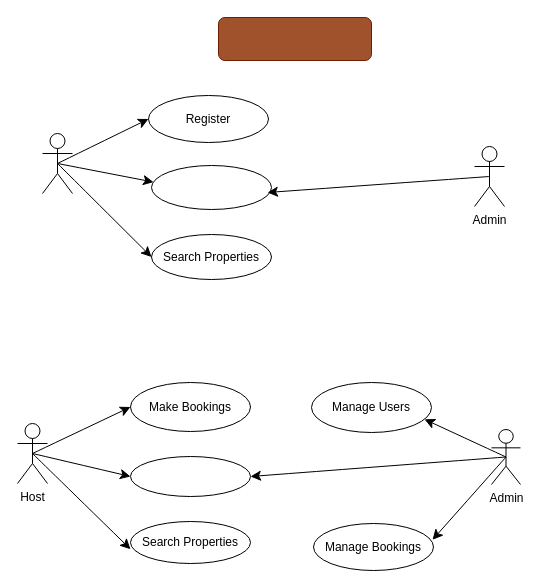
Some shapes in this 540 by 588 pixel diagram are drawn without their labels. Here are the shapes that lost their labels. From the top down, the box of each, then its label:
(218, 16, 372, 60): Use Case Diagram
(42, 132, 72, 194): Guest
(150, 164, 272, 210): Log In
(130, 456, 250, 496): Payments
